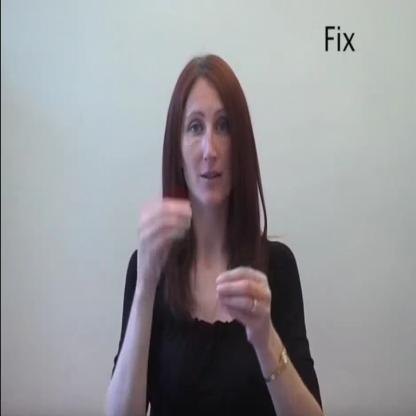Fix: (124, 193, 278, 365)
